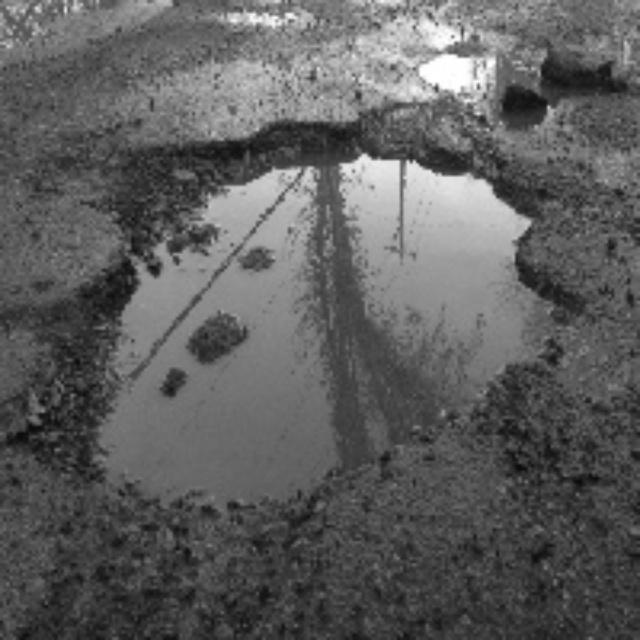Pothole: (96, 138, 506, 469), (504, 59, 615, 130), (172, 0, 316, 50), (416, 47, 488, 110)
